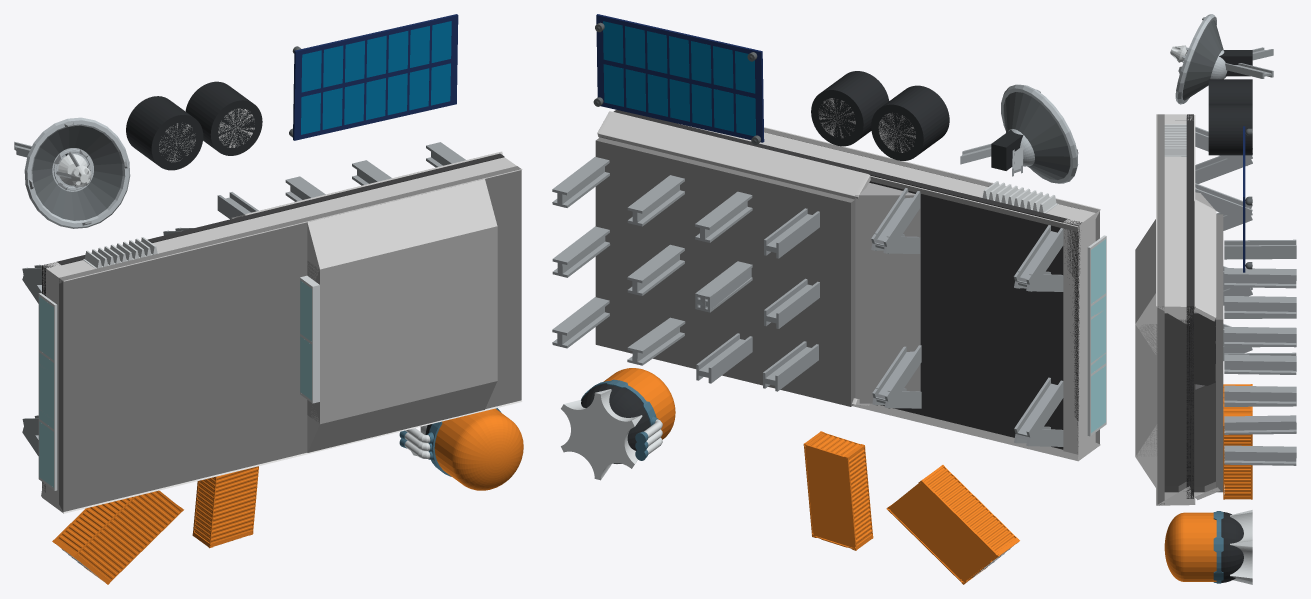
The model's file is tinker.obj.
The picture shows the model from 3 angles, left to right: view 1: azimuth 30°, elevation 25°; view 2: azimuth 150°, elevation 25°; view 3: azimuth 270°, elevation 25°; orthographic projection. The views are drawn at different scales.
Parts seen in each view (by area): view 1: obj_29, obj_31, obj_37, obj_32, obj_45, obj_38, obj_39, obj_9, obj_33, obj_43, obj_40, obj_41 (+8 smaller); view 2: obj_26, obj_8, obj_37, obj_27, obj_38, obj_39, obj_24, obj_40, obj_30, obj_9, obj_45, obj_43 (+27 smaller); view 3: obj_28, obj_38, obj_9, obj_10, obj_29, obj_8, obj_45, obj_31, obj_24, obj_25, obj_32, obj_41 (+22 smaller).
Boxes of the visible parts, bbox=[...] form: obj_29: bbox=[59, 166, 521, 511]; obj_31: bbox=[307, 226, 497, 424]; obj_37: bbox=[289, 14, 458, 140]; obj_32: bbox=[307, 179, 497, 280]; obj_45: bbox=[24, 117, 130, 228]; obj_38: bbox=[399, 408, 523, 490]; obj_39: bbox=[52, 490, 183, 584]; obj_9: bbox=[41, 157, 522, 288]; obj_33: bbox=[307, 381, 497, 452]; obj_43: bbox=[126, 96, 203, 170]; obj_40: bbox=[192, 466, 258, 548]; obj_41: bbox=[185, 81, 262, 155]; obj_26: bbox=[595, 137, 855, 406]; obj_8: bbox=[613, 110, 1082, 449]; obj_37: bbox=[593, 14, 764, 144]; obj_27: bbox=[855, 182, 920, 403]; obj_38: bbox=[561, 368, 675, 480]; obj_39: bbox=[886, 465, 1019, 584]; obj_24: bbox=[597, 111, 870, 199]; obj_40: bbox=[803, 431, 873, 550]; obj_30: bbox=[1063, 209, 1095, 461]; obj_9: bbox=[681, 124, 1100, 233]; obj_45: bbox=[1001, 84, 1078, 183]; obj_43: bbox=[871, 85, 949, 160]; obj_28: bbox=[1164, 313, 1215, 492]; obj_38: bbox=[1164, 510, 1252, 584]; obj_9: bbox=[1156, 114, 1195, 325]; obj_10: bbox=[1156, 313, 1195, 505]; obj_29: bbox=[1157, 114, 1164, 505]; obj_8: bbox=[1186, 114, 1193, 498]; obj_45: bbox=[1170, 14, 1227, 104]; obj_31: bbox=[1135, 324, 1157, 456]; obj_24: bbox=[1193, 199, 1216, 321]; obj_25: bbox=[1194, 382, 1220, 499]; obj_32: bbox=[1135, 219, 1157, 354]; obj_41: bbox=[1208, 104, 1252, 155].
Size of the model in its own units: 199 by 189 by 67.06.
